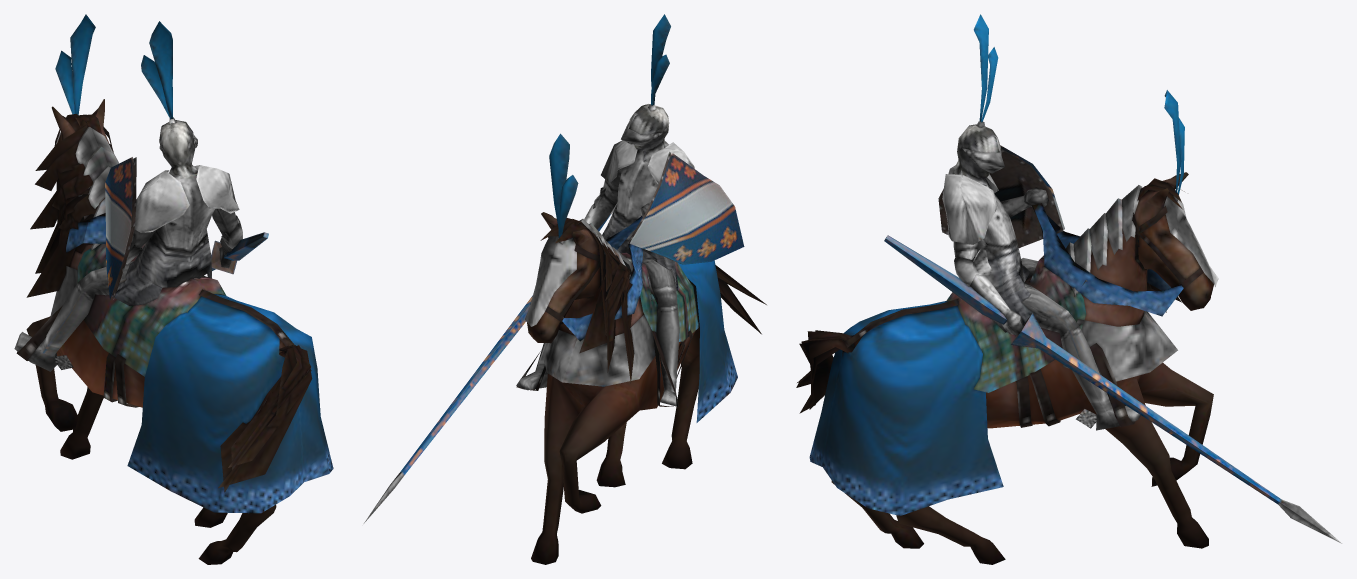
The model's file is Knights.glb.
The picture shows the model from 3 angles, left to right: view 1: azimuth 30°, elevation 25°; view 2: azimuth 150°, elevation 25°; view 3: azimuth 270°, elevation 25°; orthographic projection. The views are drawn at different scales.
Visible parts, largest first — view 1: Horse, Cloth, Man, Shield, Armor, Spear; view 2: Horse, Man, Shield, Cloth, Armor, Spear; view 3: Cloth, Horse, Man, Armor, Spear, Shield.
Boxes of the visible parts, <box> form: Horse: <box>26,14,312,564</box>; Cloth: <box>16,213,333,513</box>; Man: <box>14,21,242,371</box>; Shield: <box>105,157,136,299</box>; Armor: <box>50,127,118,316</box>; Spear: <box>211,232,268,274</box>; Horse: <box>525,133,766,564</box>; Man: <box>516,14,694,406</box>; Shield: <box>627,151,744,264</box>; Cloth: <box>516,216,737,422</box>; Armor: <box>542,219,655,386</box>; Spear: <box>363,214,610,524</box>; Cloth: <box>809,203,1183,515</box>; Horse: <box>796,90,1218,564</box>; Man: <box>942,14,1140,430</box>; Armor: <box>1063,185,1177,381</box>; Spear: <box>884,235,1341,543</box>; Shield: <box>938,145,1064,248</box>.
Size of the model in its own units: 1.41 by 3.09 by 2.95.
2 materials, 2 textured.
